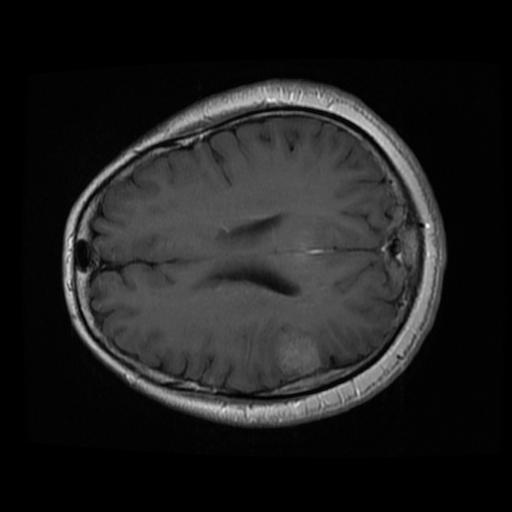meningioma: (271, 330, 321, 380)
